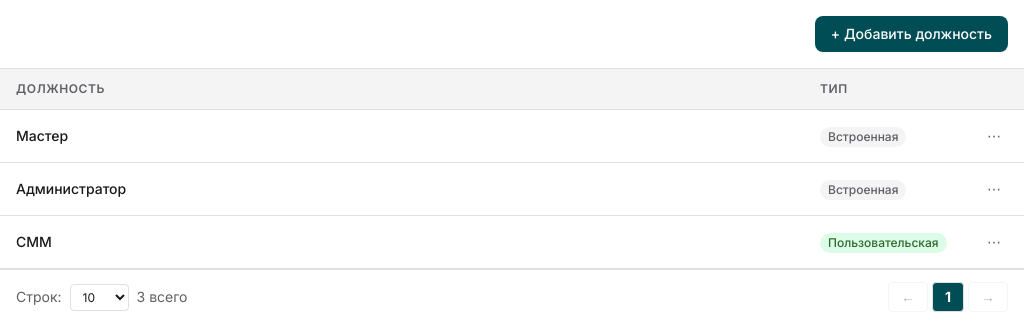
Test case: PositionsTable — delete (D4 + #324 deferred pipeline) › exposes «Удалить» on a built-in row too — the server is the source of truth
Expected: the text "Мастер" is shown, [16, 127, 68, 144]
Click the button named "Действия".
click(994, 189)  # box [980, 175, 1008, 203]
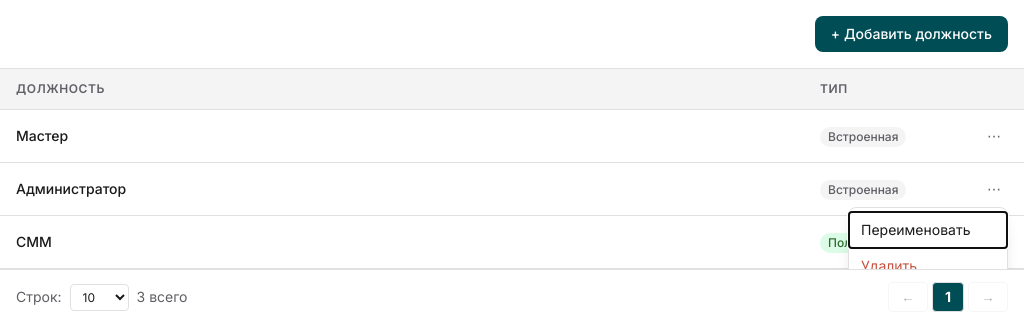
Expected: the menu item "Переименовать" is shown, [849, 212, 1007, 248]
